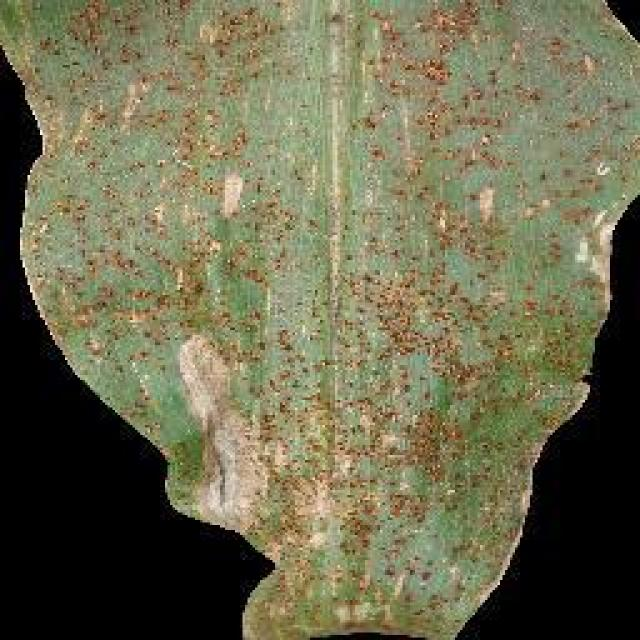Corn Common Rust: (72, 32, 590, 640)
